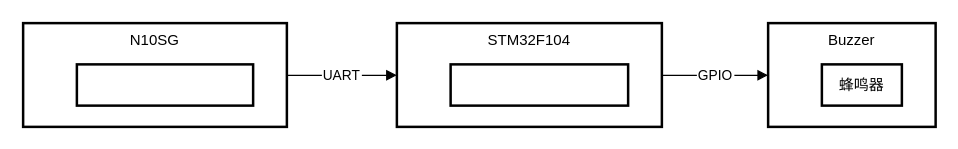
The diagram is 958 pixels wide and 149 high, and some of its shapes have lost their labels. The centre of each missing label's shape, as x and y in pixels:
"N10SGNB-IoT模组" goes at point 164,84.
"STM32F104单片机" goes at point 539,84.
